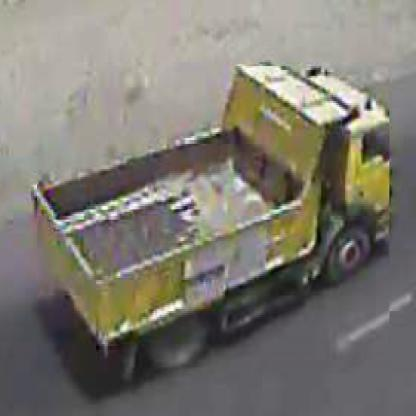truck: (38, 67, 390, 370)
